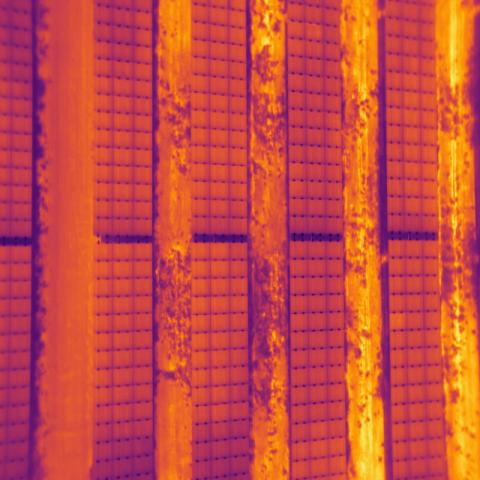fault: (388, 312, 408, 332)
